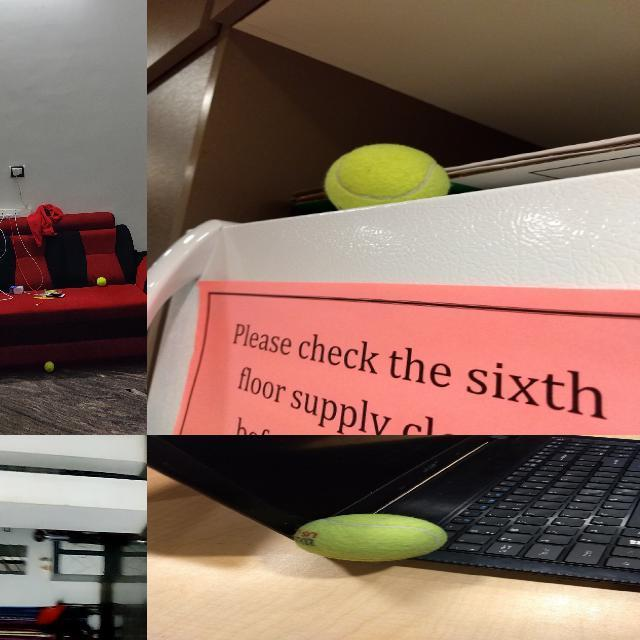tennis-ball: (291, 513, 450, 562), (323, 143, 451, 194), (44, 361, 54, 372), (96, 277, 106, 286)
